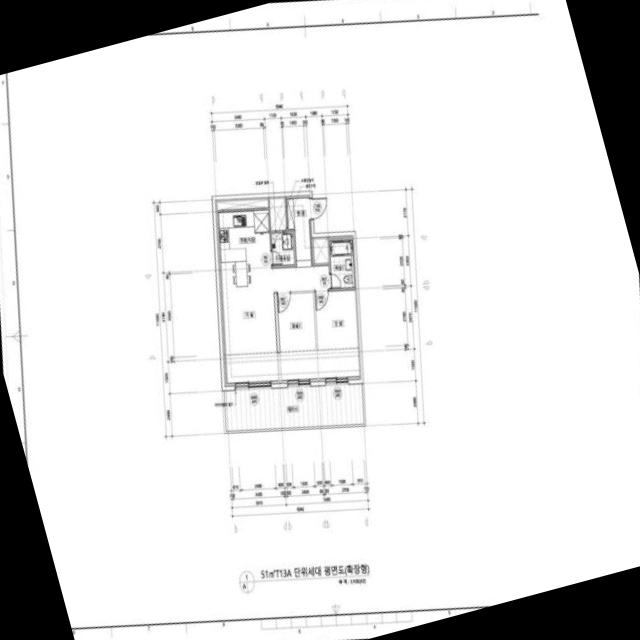background: (0, 0, 640, 640)
space_bedroom: (314, 289, 359, 381), (276, 292, 317, 383)
space_front: (285, 195, 312, 266)
space_kitchen: (215, 209, 270, 271)
space_living_room: (218, 265, 329, 385)
space_multipurpose_space: (270, 231, 294, 265)
space_other: (215, 197, 267, 210), (268, 196, 285, 230), (312, 236, 328, 263)
space_toilet: (328, 239, 354, 288)
